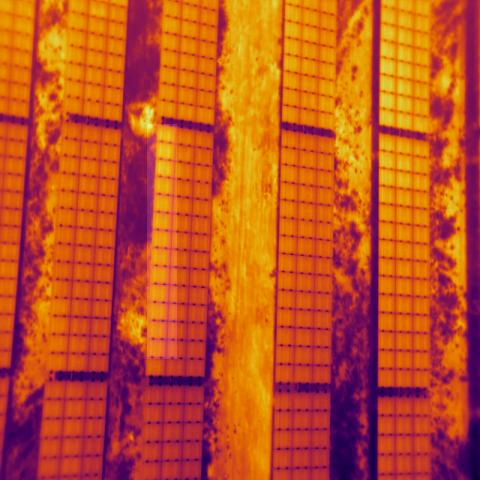fault: (147, 124, 177, 359)
